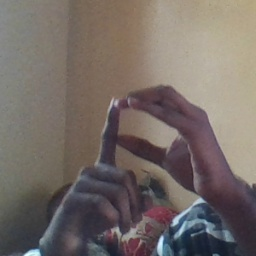P: (61, 82, 220, 233)
